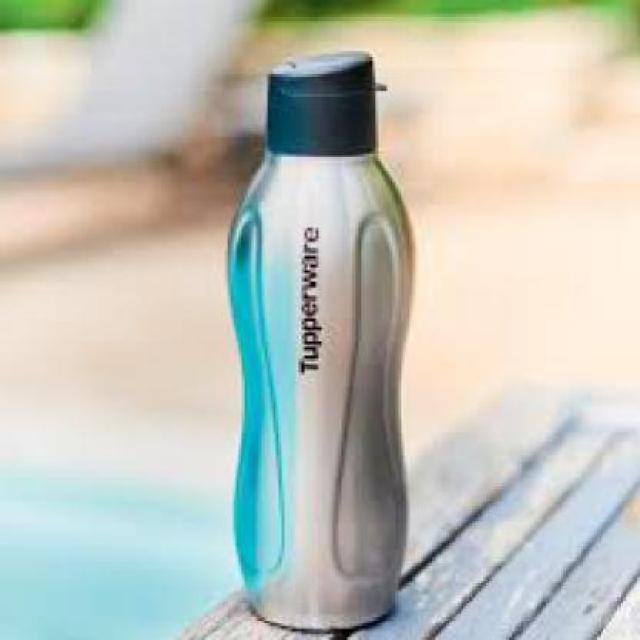Drinking: (224, 34, 422, 632)
